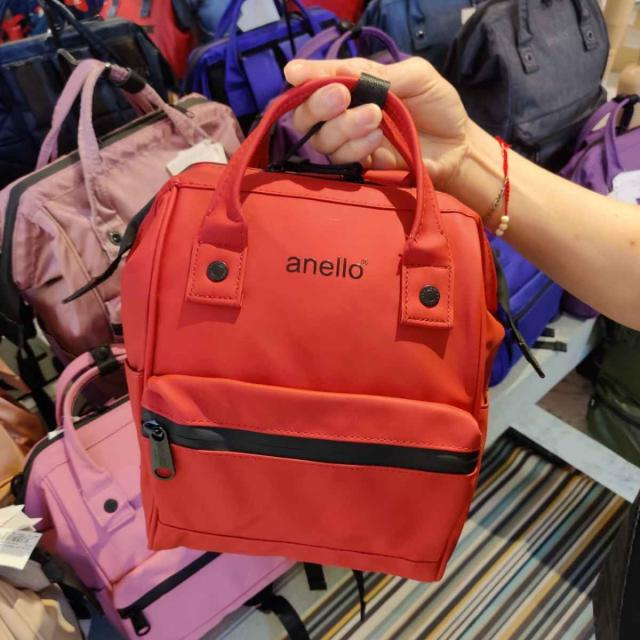Handbag: (116, 73, 508, 583)
